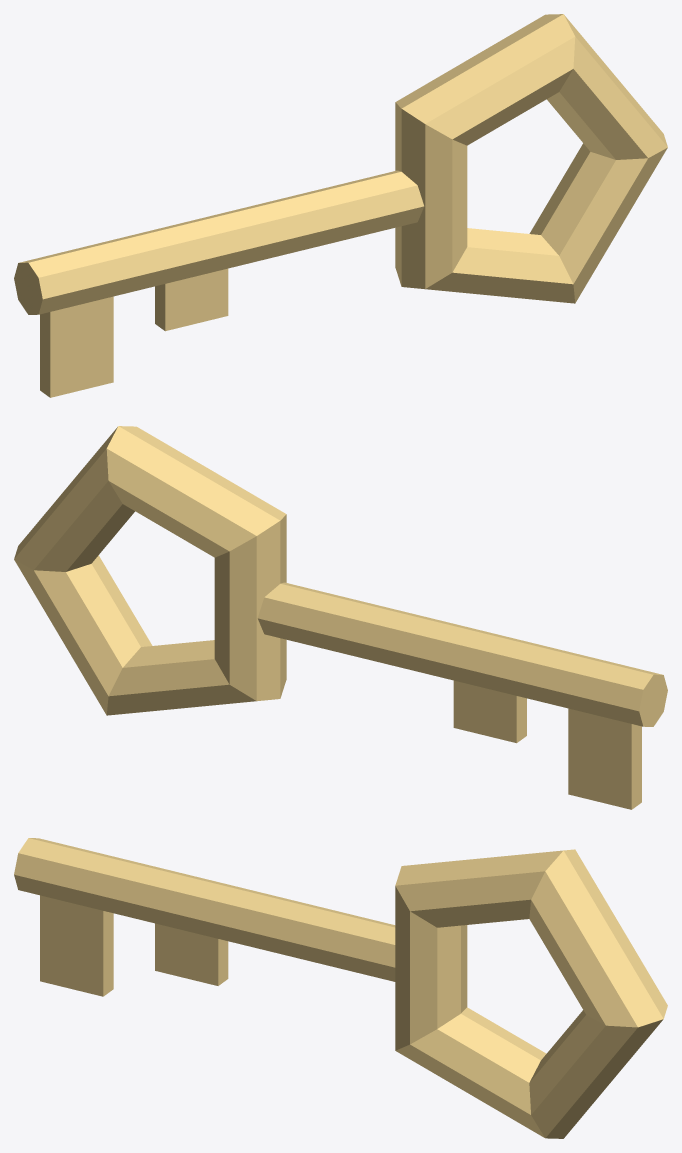
File: key_lowpoly.glb
3 views of the same model, one above another, from view 1: azimuth 30°, elevation 25°; view 2: azimuth 150°, elevation 25°; view 3: azimuth 330°, elevation 25° (orthographic).
Visible parts, largest first — view 1: Torus; view 2: Torus; view 3: Torus.
Boxes of the visible parts, <box> form: Torus: <box>14,14,667,397</box>; Torus: <box>14,426,667,809</box>; Torus: <box>14,838,667,1138</box>.
Size of the model in its own units: 3.81 by 1.65 by 0.44.
1 material, 1 textured.
